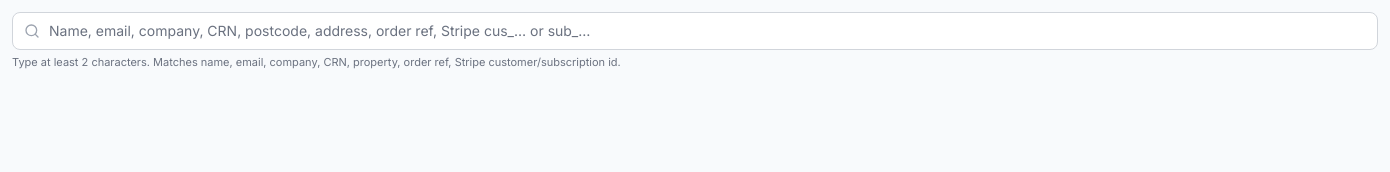
Test: AdminClientSupportSearch › shows too-short hint and does not call API
Replace the text in the field with test id "admin-client-support-search-input" with "a": {"x": 695, "y": 31} [12,12,1378,50]
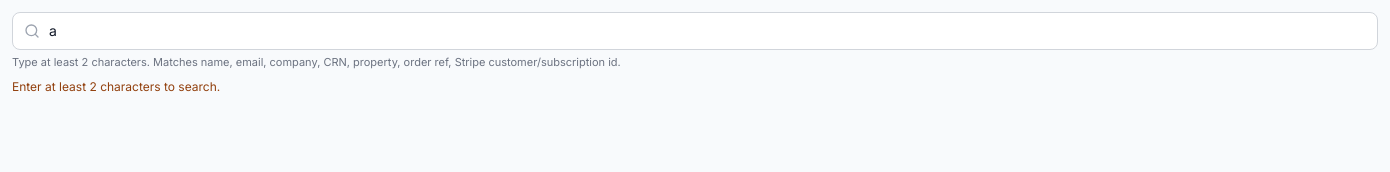
Expected: the text "Enter at least 2 characters to search." is shown, [12,78,220,94]
